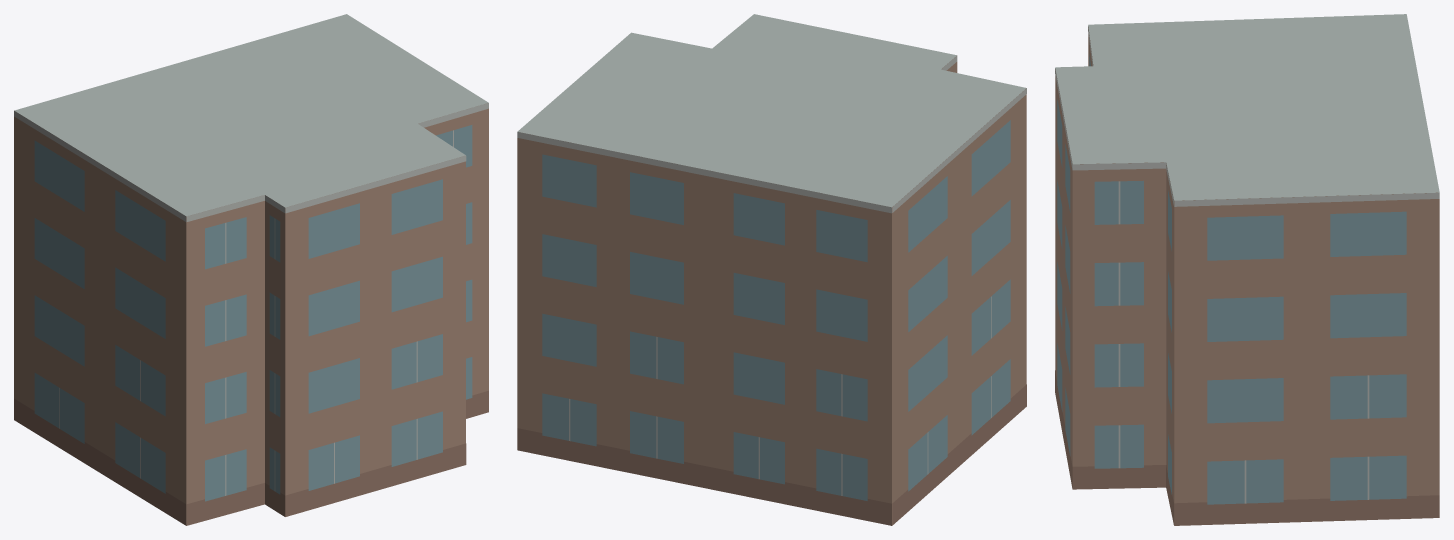
The model's file is survey-upis-32739717.glb.
3 renders of one model, left to right at view 1: azimuth 30°, elevation 25°; view 2: azimuth 150°, elevation 25°; view 3: azimuth 270°, elevation 25°, orthographic. The views are drawn at different scales.
Visible parts, largest first — view 1: survey-upis-32739717.tmp; view 2: survey-upis-32739717.tmp; view 3: survey-upis-32739717.tmp.
Part boxes in pixels (<box>): survey-upis-32739717.tmp: <box>14,14,488,525</box>; survey-upis-32739717.tmp: <box>517,14,1026,525</box>; survey-upis-32739717.tmp: <box>1055,14,1439,525</box>.
Size of the model in its own units: 15.77 by 12.8 by 13.73.
